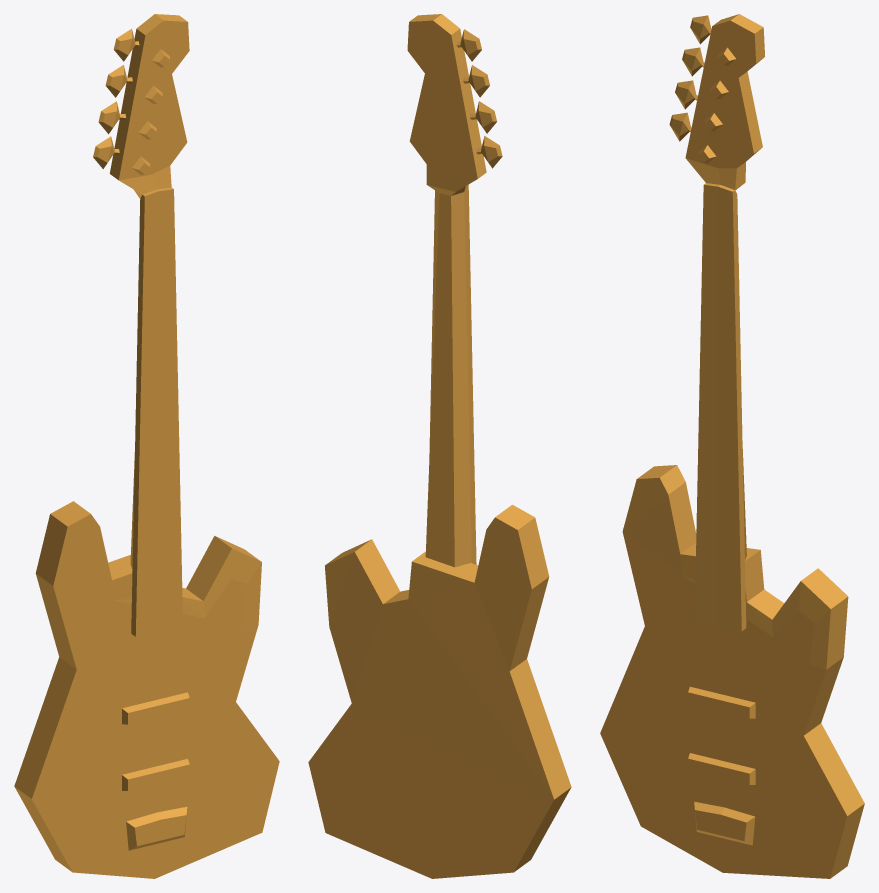
The model's file is bass-guitar.fbx.
The picture shows the model from 3 angles, left to right: view 1: azimuth 30°, elevation 25°; view 2: azimuth 150°, elevation 25°; view 3: azimuth 330°, elevation 25°; orthographic projection.
Visible parts, largest first — view 1: bass-guitar; view 2: bass-guitar; view 3: bass-guitar.
Boxes of the visible parts, left/top/right/bottom form: bass-guitar: left=14, top=14, right=279, bottom=878; bass-guitar: left=308, top=14, right=571, bottom=878; bass-guitar: left=600, top=14, right=864, bottom=878.
Size of the model in its own units: 0.3608 by 1.19 by 0.0572.
